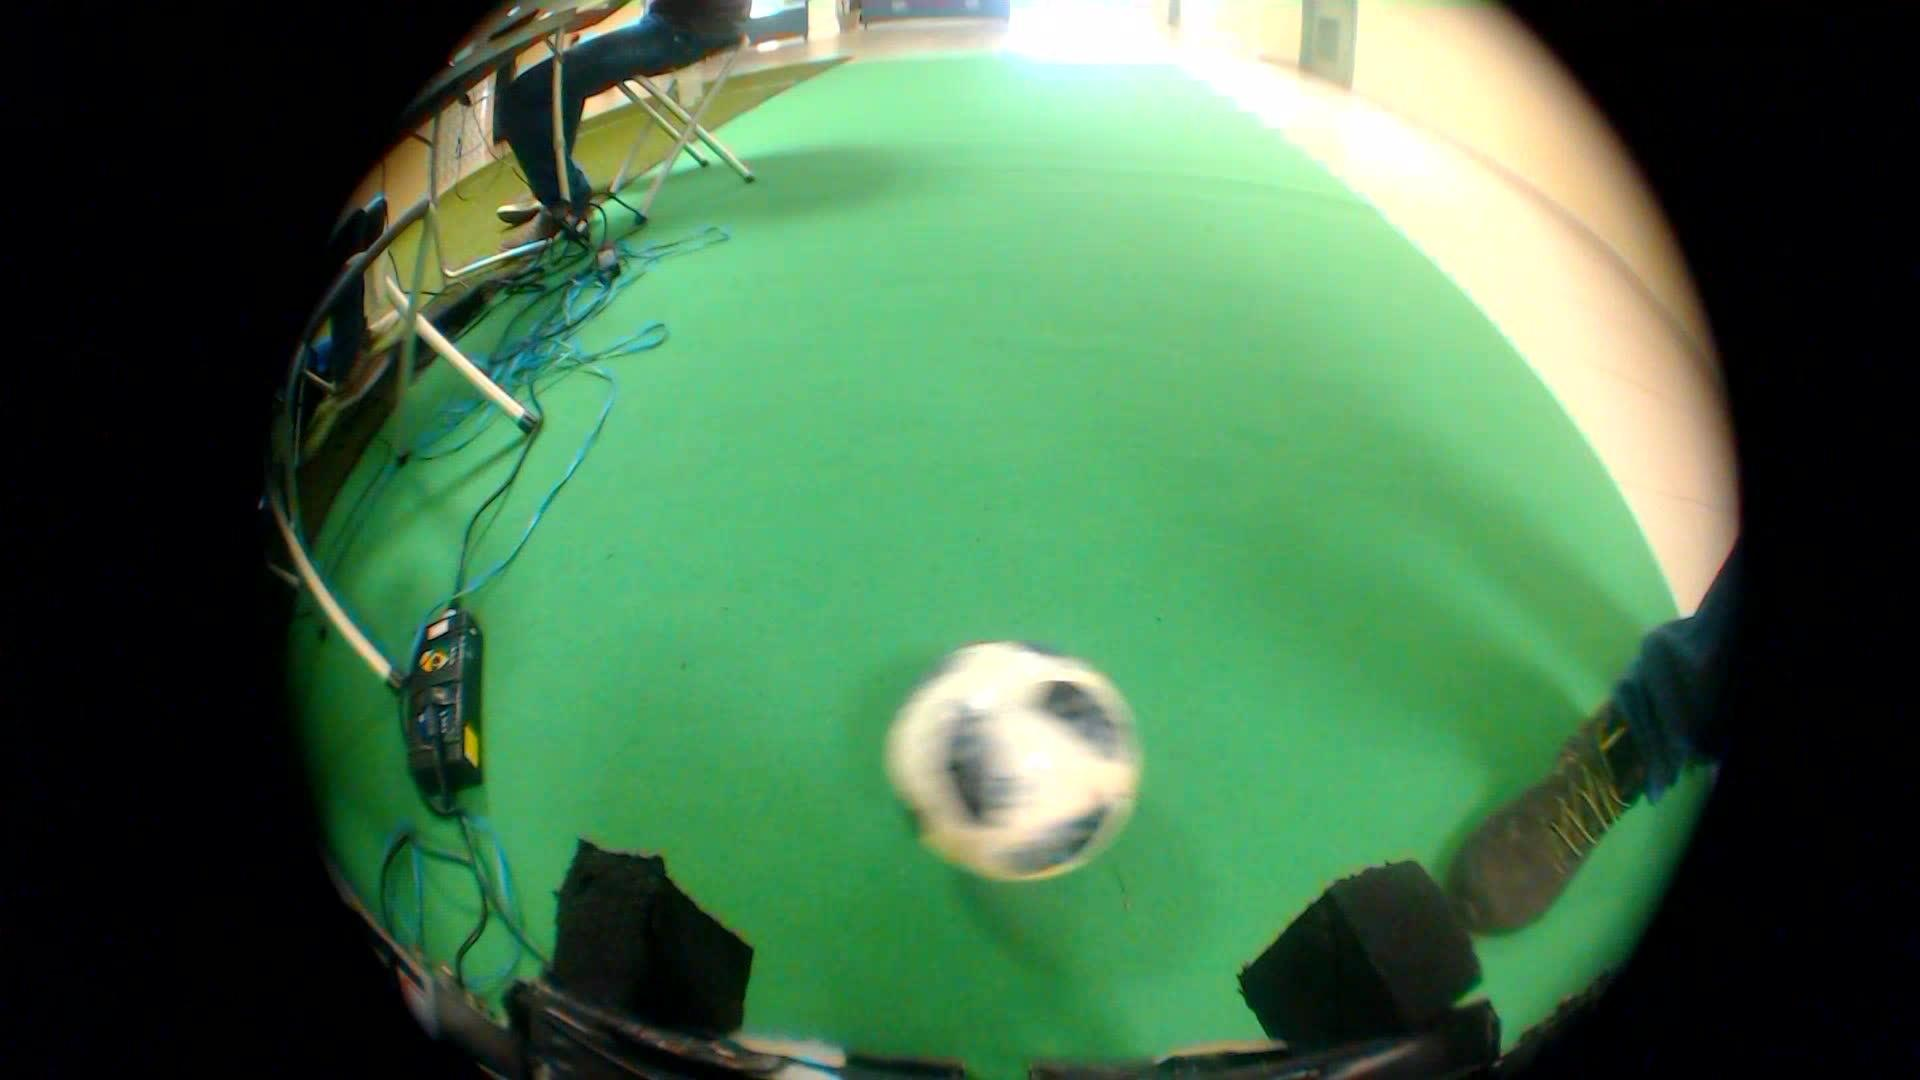ball: (851, 615, 1189, 899)
